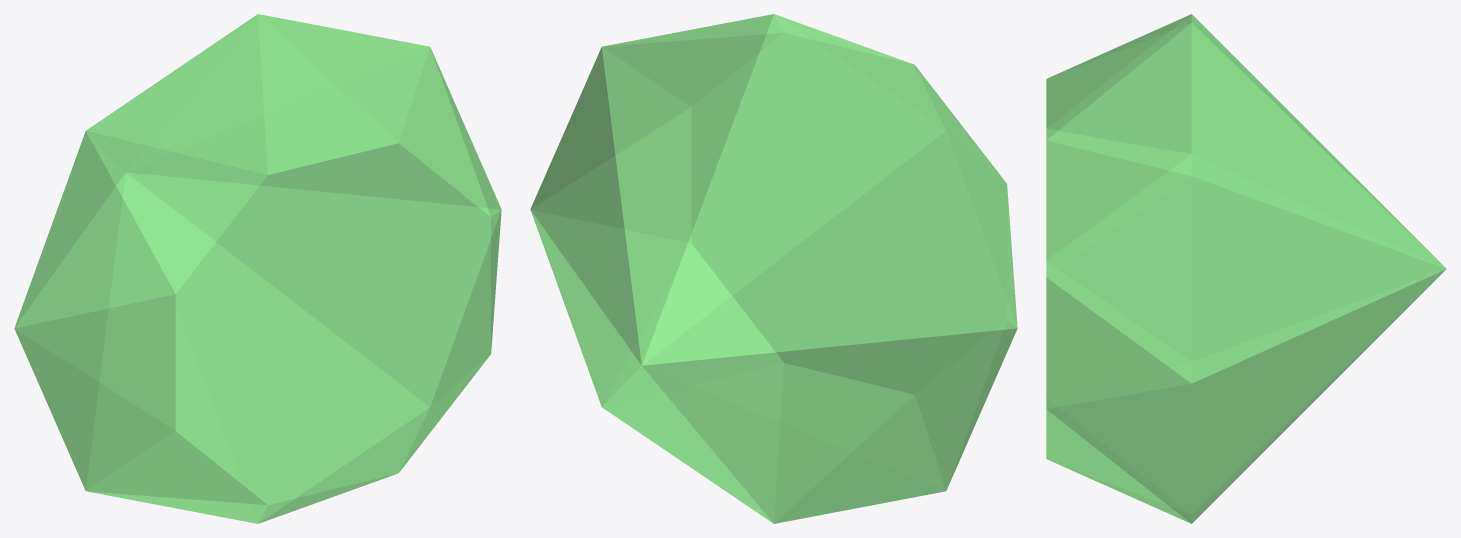
File: OctagonalAntiprism.obj
The picture shows the model from 3 angles, left to right: view 1: azimuth 30°, elevation 25°; view 2: azimuth 150°, elevation 25°; view 3: azimuth 270°, elevation 25°; orthographic projection. The views are drawn at different scales.
Bounding box in the file's own units: 2.48 × 2.48 × 1.83.
